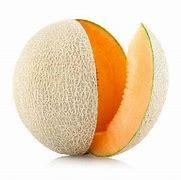Melon Ripe: (14, 21, 170, 156)
